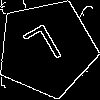L: (21, 23, 69, 76)
